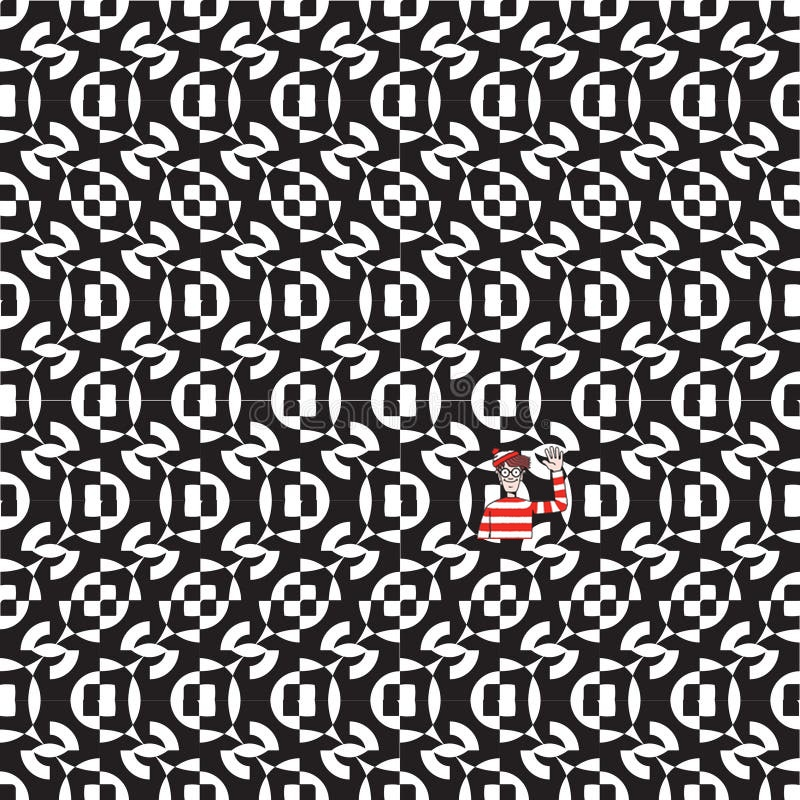waldo: (476, 446, 568, 539)
